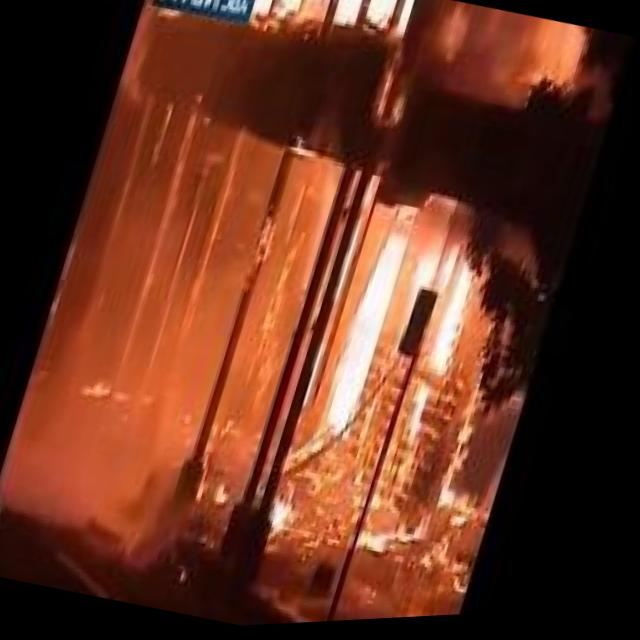fire: (364, 231, 503, 458), (303, 221, 420, 473), (263, 493, 307, 547)
